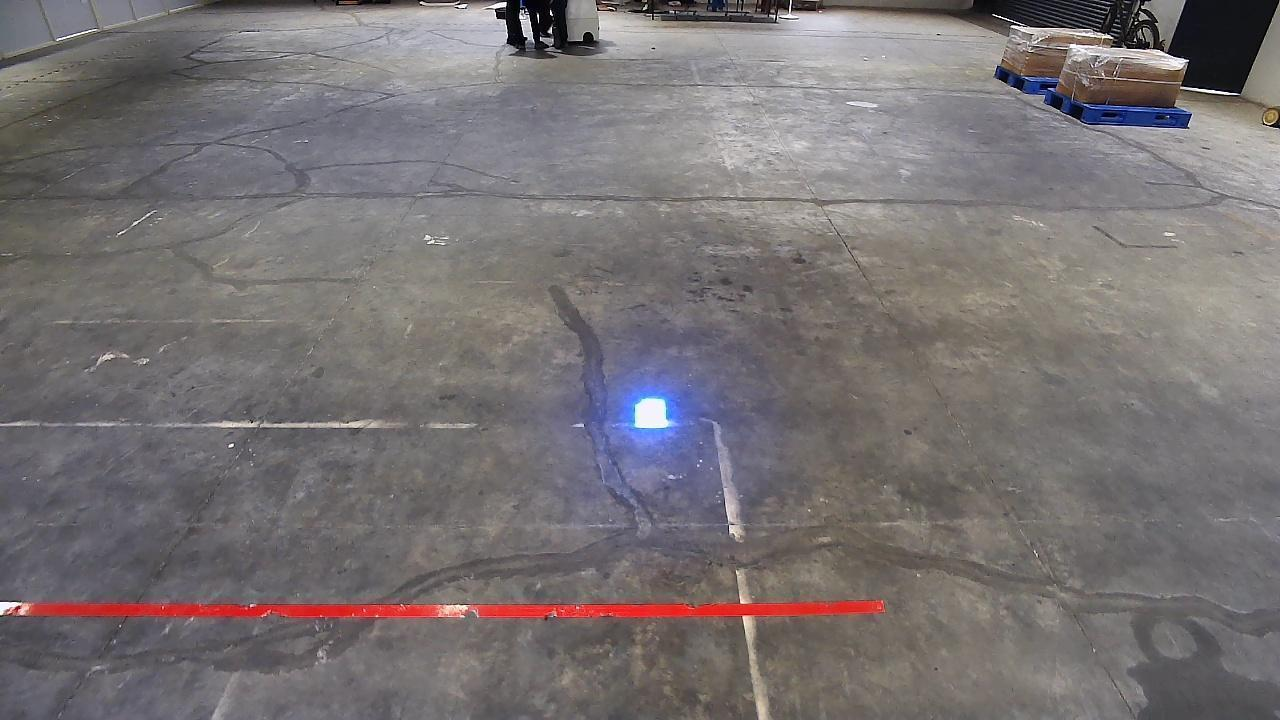red_line: (0, 596, 883, 614)
